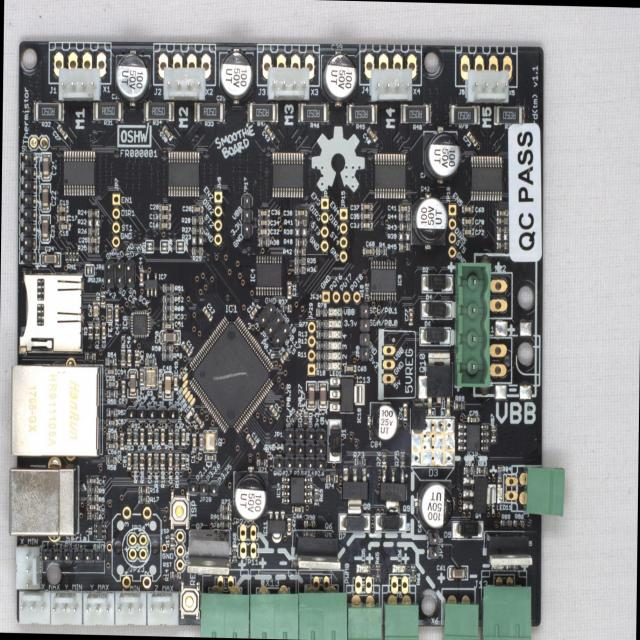Button: (168, 490, 190, 530), (180, 580, 200, 619)
Capacitor Jumper: (126, 368, 138, 398), (39, 250, 61, 266), (159, 328, 181, 344), (448, 565, 470, 581), (39, 214, 51, 243), (162, 370, 173, 401), (305, 380, 316, 411), (317, 380, 328, 410), (40, 151, 51, 181), (40, 182, 50, 212), (201, 305, 213, 322), (180, 340, 192, 357), (366, 126, 378, 143), (162, 125, 174, 142), (56, 123, 68, 140), (248, 303, 260, 319), (280, 347, 292, 363), (245, 433, 257, 449), (264, 124, 276, 140), (467, 130, 478, 147), (269, 404, 280, 420), (92, 302, 100, 320), (158, 220, 170, 229), (286, 280, 292, 298), (360, 202, 372, 211), (360, 211, 372, 220), (56, 213, 68, 222), (120, 380, 126, 397), (402, 404, 408, 421), (126, 452, 132, 469), (258, 227, 270, 235), (126, 349, 132, 365), (344, 364, 356, 372), (86, 476, 98, 484), (398, 204, 410, 212), (158, 204, 170, 212), (191, 205, 203, 213), (258, 209, 270, 217), (56, 205, 68, 213), (158, 212, 170, 220), (257, 218, 269, 226), (360, 220, 372, 228), (191, 432, 196, 450), (198, 432, 203, 450), (59, 222, 70, 230), (106, 418, 117, 426), (292, 505, 303, 513), (101, 322, 106, 339), (119, 432, 124, 449), (147, 452, 152, 469), (462, 228, 474, 235), (88, 236, 100, 243), (362, 247, 374, 254), (162, 322, 174, 329), (204, 454, 216, 461), (295, 209, 307, 216), (462, 217, 474, 224), (173, 374, 178, 390), (157, 381, 162, 397), (139, 428, 144, 444), (286, 518, 291, 534), (106, 380, 117, 387), (106, 442, 117, 449), (87, 503, 98, 510), (462, 205, 473, 212), (160, 429, 165, 444), (467, 416, 479, 422), (496, 210, 508, 216), (409, 308, 413, 325), (114, 304, 118, 321), (140, 368, 144, 385), (168, 453, 172, 470), (105, 368, 116, 374), (139, 269, 143, 285), (181, 428, 185, 444)
Clock: (203, 429, 217, 454), (144, 365, 158, 389)
Connector: (9, 356, 104, 462), (8, 456, 80, 544), (17, 268, 85, 357), (453, 262, 491, 388), (480, 568, 532, 640), (299, 574, 349, 640), (250, 575, 300, 639), (201, 575, 250, 638), (518, 465, 565, 516), (18, 152, 37, 265), (440, 590, 479, 640), (383, 594, 420, 640), (347, 594, 384, 640), (156, 50, 212, 80), (257, 300, 291, 347), (363, 51, 418, 80), (266, 65, 310, 101), (260, 52, 316, 80), (53, 49, 107, 78), (459, 52, 513, 80), (58, 66, 101, 101), (464, 69, 509, 102), (162, 66, 205, 100), (370, 68, 412, 100), (114, 590, 148, 625), (82, 590, 115, 626), (488, 335, 512, 384), (146, 590, 179, 625), (18, 589, 51, 624), (15, 545, 41, 589), (490, 272, 513, 320), (51, 590, 82, 624), (42, 548, 104, 563), (125, 406, 178, 422), (273, 455, 327, 470), (358, 303, 371, 361), (283, 427, 326, 442), (338, 206, 349, 264), (381, 343, 396, 385), (284, 442, 326, 456), (240, 193, 253, 238), (321, 290, 361, 304), (212, 190, 222, 246), (319, 196, 329, 252), (173, 527, 185, 573), (110, 192, 120, 247), (446, 203, 456, 258), (187, 480, 220, 496), (104, 258, 136, 274), (307, 320, 316, 376), (104, 274, 136, 288), (389, 574, 409, 594), (236, 524, 259, 541), (236, 541, 259, 558), (426, 528, 438, 560), (353, 575, 372, 594), (126, 546, 148, 562), (28, 134, 50, 150), (505, 475, 518, 501), (126, 531, 148, 546), (119, 574, 133, 589), (140, 575, 152, 590), (141, 505, 152, 520), (121, 505, 131, 520)
Diode: (420, 300, 455, 320), (418, 327, 454, 346), (337, 512, 370, 532), (451, 520, 484, 540), (327, 418, 341, 462), (421, 274, 453, 293), (374, 513, 406, 532), (410, 399, 425, 433), (410, 565, 415, 581)
Electrolytic Capacitor: (421, 125, 461, 183), (113, 48, 151, 106), (410, 192, 448, 249), (413, 480, 455, 530), (320, 51, 358, 106), (232, 465, 267, 524), (218, 46, 253, 105), (366, 401, 398, 441)
Ferrite Bead: (106, 304, 112, 322)
IC: (188, 316, 274, 435), (62, 148, 96, 196), (470, 154, 503, 202), (167, 150, 200, 197), (373, 152, 406, 198), (328, 374, 364, 414), (272, 152, 304, 197), (369, 260, 397, 302), (255, 254, 282, 294), (280, 476, 312, 504), (458, 423, 488, 451), (266, 509, 286, 544), (130, 309, 150, 338), (144, 272, 156, 296)
Inductor: (183, 406, 195, 422)
Led: (328, 307, 342, 317), (328, 318, 342, 328), (328, 328, 342, 338), (496, 484, 503, 504), (328, 340, 341, 350), (328, 350, 341, 360), (327, 360, 341, 369), (392, 564, 406, 573), (356, 564, 370, 573), (491, 564, 505, 569)
Pads: (492, 318, 532, 400), (408, 416, 455, 467), (84, 263, 94, 277), (175, 239, 183, 253), (145, 239, 153, 253), (160, 239, 168, 253), (87, 218, 99, 227), (191, 236, 203, 245), (496, 232, 508, 240), (398, 232, 410, 240), (294, 228, 306, 235), (182, 379, 188, 388), (184, 390, 190, 399), (190, 396, 196, 405), (182, 387, 188, 395), (187, 394, 193, 402), (182, 373, 187, 381)
Resistor: (194, 101, 226, 122), (448, 104, 479, 125), (400, 103, 431, 124), (247, 102, 278, 123), (346, 104, 377, 124), (143, 101, 174, 121), (92, 101, 123, 121), (33, 102, 64, 122), (494, 105, 524, 125), (298, 104, 329, 122), (289, 409, 300, 426), (316, 340, 327, 350), (364, 283, 370, 301), (316, 319, 328, 328), (315, 329, 327, 338), (354, 457, 366, 466), (256, 458, 268, 467), (490, 425, 496, 442), (316, 350, 326, 360), (106, 389, 117, 398), (106, 407, 117, 416), (87, 511, 98, 520), (294, 266, 306, 274), (100, 291, 106, 307), (162, 304, 174, 312), (162, 312, 174, 320), (94, 323, 100, 339), (134, 350, 140, 366), (381, 451, 387, 467), (180, 453, 186, 469), (88, 209, 100, 217), (120, 350, 126, 365), (497, 225, 508, 233), (88, 227, 99, 235), (295, 238, 306, 246), (258, 238, 269, 246), (398, 242, 409, 250), (162, 284, 173, 292), (280, 304, 291, 312), (316, 361, 327, 369), (105, 357, 116, 365), (106, 432, 117, 440), (87, 485, 98, 493), (138, 495, 149, 503), (87, 494, 98, 502), (220, 512, 231, 520), (126, 427, 131, 444), (400, 449, 405, 466), (174, 453, 179, 470), (133, 453, 138, 470), (375, 565, 380, 582), (87, 245, 99, 252), (162, 295, 174, 302), (84, 353, 96, 360), (144, 358, 156, 365), (325, 475, 337, 482), (398, 213, 410, 220), (376, 247, 386, 255), (316, 308, 326, 316), (303, 412, 308, 428), (147, 428, 152, 444), (133, 429, 138, 445), (153, 452, 158, 468), (160, 453, 165, 469), (497, 466, 502, 482), (220, 522, 230, 530), (192, 216, 202, 224), (399, 223, 410, 230), (294, 248, 305, 255), (294, 257, 305, 264), (162, 344, 173, 351), (105, 457, 116, 464), (220, 504, 231, 511), (513, 520, 524, 527), (500, 520, 511, 527), (169, 571, 180, 578), (295, 219, 306, 226), (174, 429, 179, 444), (192, 227, 202, 234), (192, 248, 202, 255), (162, 353, 172, 360), (454, 402, 464, 409), (464, 467, 474, 474), (138, 486, 148, 493), (140, 452, 144, 469), (496, 242, 507, 248), (476, 467, 487, 473), (497, 218, 508, 224), (88, 323, 92, 339), (154, 428, 158, 444), (314, 489, 318, 505), (170, 533, 174, 549), (232, 545, 236, 561), (168, 428, 172, 443), (304, 521, 314, 527), (506, 564, 518, 569), (291, 560, 298, 566)
Resistor Network: (64, 250, 78, 263)
Test Point: (106, 541, 113, 552), (160, 543, 167, 551)
Transistor: (416, 350, 452, 416), (186, 529, 231, 573), (292, 530, 341, 569), (483, 529, 533, 566), (462, 475, 496, 513), (378, 468, 407, 512), (341, 467, 368, 514), (92, 521, 106, 539)
